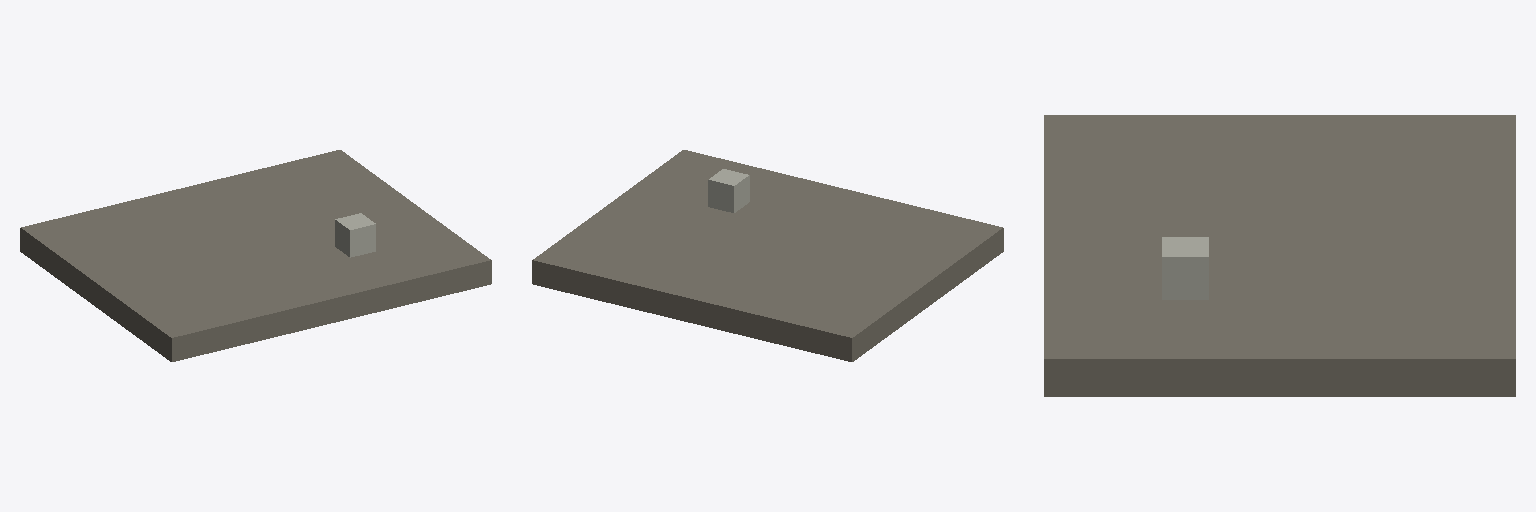
The robot description file, URDF, robot "parttoolgen_hammer_single_cube":
<?xml version="1.0"?>
<robot name="parttoolgen_hammer_single_cube">
  <link name="table_with_target_cube">
    <visual>
      <material name="wood">
        <color rgba="0.52 0.50 0.46 1.0"/>
      </material>
      <origin xyz="0 0 0"/>
      <geometry>
        <box size="0.55 0.45 0.04"/>
      </geometry>
    </visual>
    <collision>
      <origin xyz="0 0 0"/>
      <geometry>
        <box size="0.55 0.45 0.04"/>
      </geometry>
    </collision>

    <visual>
      <material name="target_cube">
        <color rgba="0.72 0.72 0.68 1.0"/>
      </material>
      <origin xyz="0.11924253835868012 -0.09019759586090474 0.042499999999999996"/>
      <geometry>
        <box size="0.045 0.045 0.045"/>
      </geometry>
    </visual>
    <collision>
      <origin xyz="0.11924253835868012 -0.09019759586090474 0.042499999999999996"/>
      <geometry>
        <box size="0.045 0.045 0.045"/>
      </geometry>
    </collision>

    <inertial>
      <mass value="500"/>
      <friction value="1.0"/>
      <inertia ixx="1000.0" ixy="0.0" ixz="0.0" iyy="1000.0" iyz="0.0" izz="1000.0"/>
    </inertial>
  </link>
</robot>

--- What the picture shows (computed from the rendered views, not written in the file) ---
3 views of the same robot in one strip: view 1: azimuth 30°, elevation 25°; view 2: azimuth 150°, elevation 25°; view 3: azimuth 270°, elevation 25° (orthographic).
Robot: parttoolgen_hammer_single_cube — 1 links, 0 joints (none); root link table_with_target_cube; default pose: every joint at zero.
Links seen in each view (by area): view 1: table_with_target_cube; view 2: table_with_target_cube; view 3: table_with_target_cube.
Link boxes in pixels (box(x1,y1,x2,y2)): table_with_target_cube: box(20, 150, 491, 361); table_with_target_cube: box(532, 150, 1003, 361); table_with_target_cube: box(1044, 115, 1515, 396).
Bounding box of the posed robot: 0.55 × 0.45 × 0.085 m (x, y, z).
Geometry: primitives only (box / cylinder / sphere), no mesh files.
